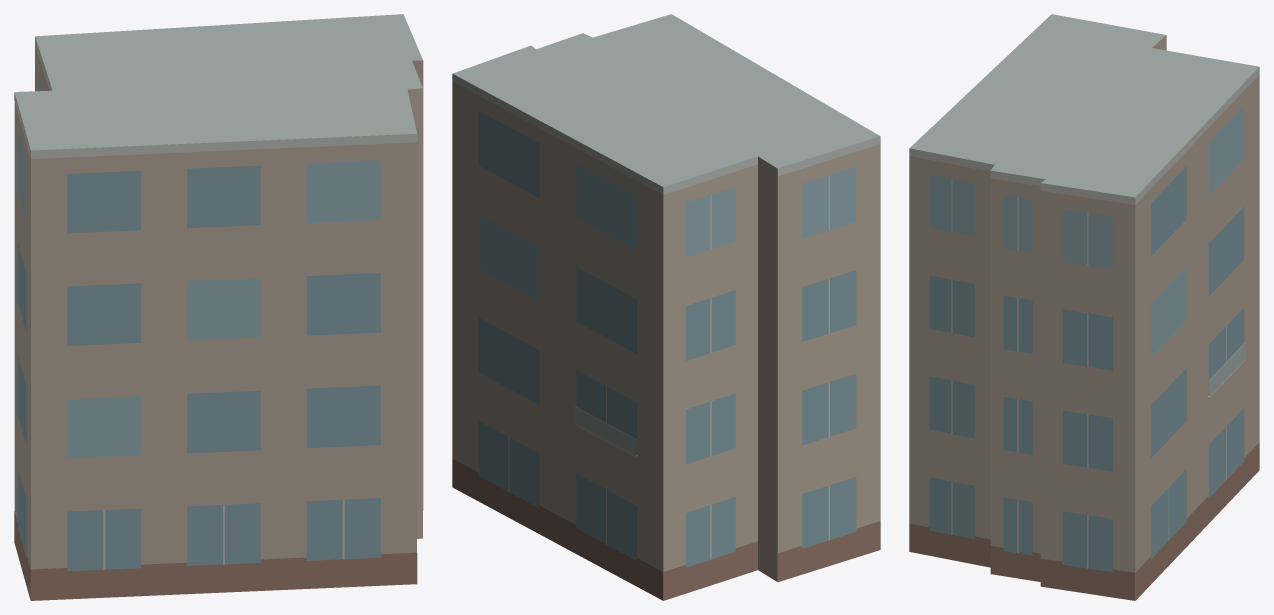
Rendered from survey-upis-33043579.glb.
3 renders of one model, left to right at view 1: azimuth 30°, elevation 25°; view 2: azimuth 150°, elevation 25°; view 3: azimuth 270°, elevation 25°, orthographic. The views are drawn at different scales.
Visible parts, largest first — view 1: survey-upis-33043579.tmp; view 2: survey-upis-33043579.tmp; view 3: survey-upis-33043579.tmp.
Boxes of the visible parts, <box> form: survey-upis-33043579.tmp: <box>14,14,423,600</box>; survey-upis-33043579.tmp: <box>452,14,880,600</box>; survey-upis-33043579.tmp: <box>909,14,1259,600</box>.
Size of the model in its own units: 12.48 by 12.8 by 10.08.
